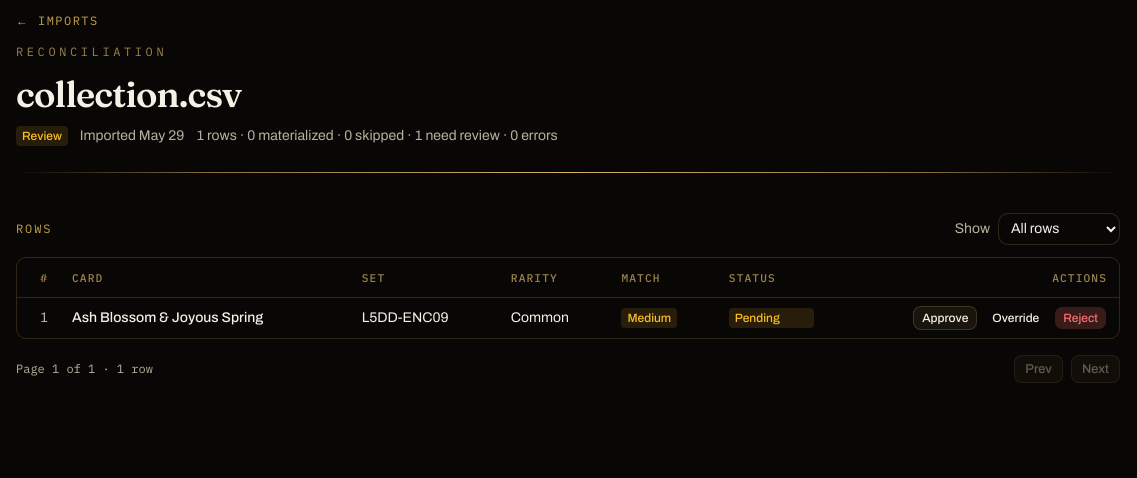
Test case: ImportBatchDetail › re-seeds the CSRF cookie when an action returns 403 (recoverable without reload)
The width and height of the screenshot is (1137, 478).
Expected: the text "Ash Blossom & Joyous Spring" is shown, [72, 308, 263, 328]
Click the button "Approve" at (945, 318), box [913, 306, 977, 330]
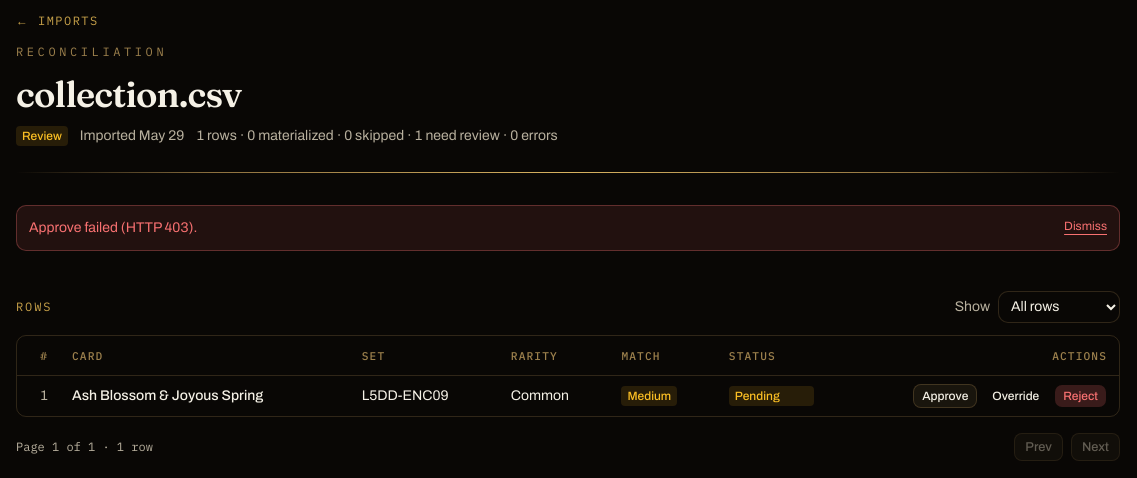
Result: the text "Approve failed (HTTP 403)." is shown at [29, 218, 197, 238]
